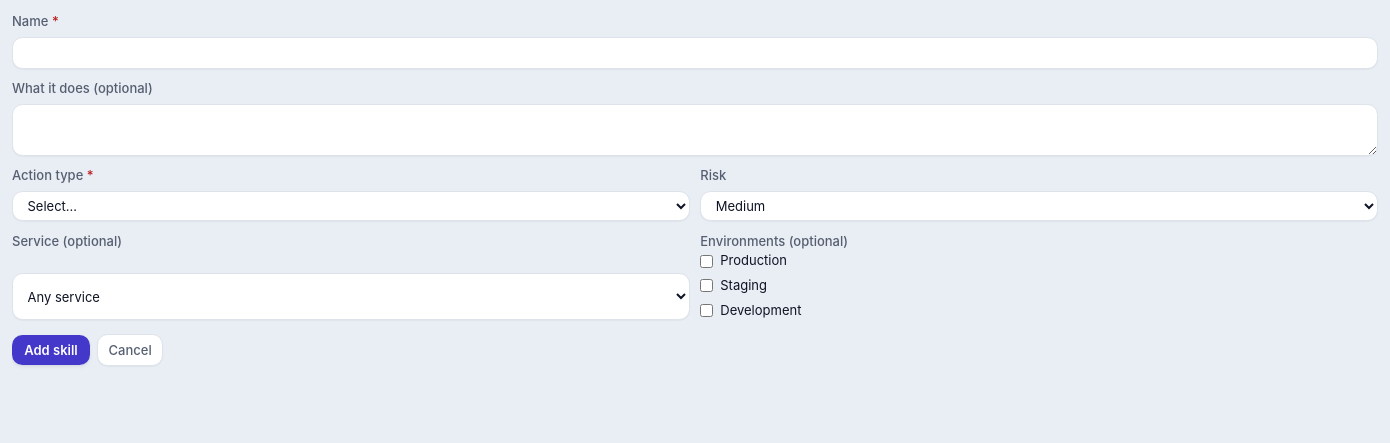
Test: SkillForm › requires a name and an action type
Click the button "Add skill": (51, 350) [12, 335, 90, 365]
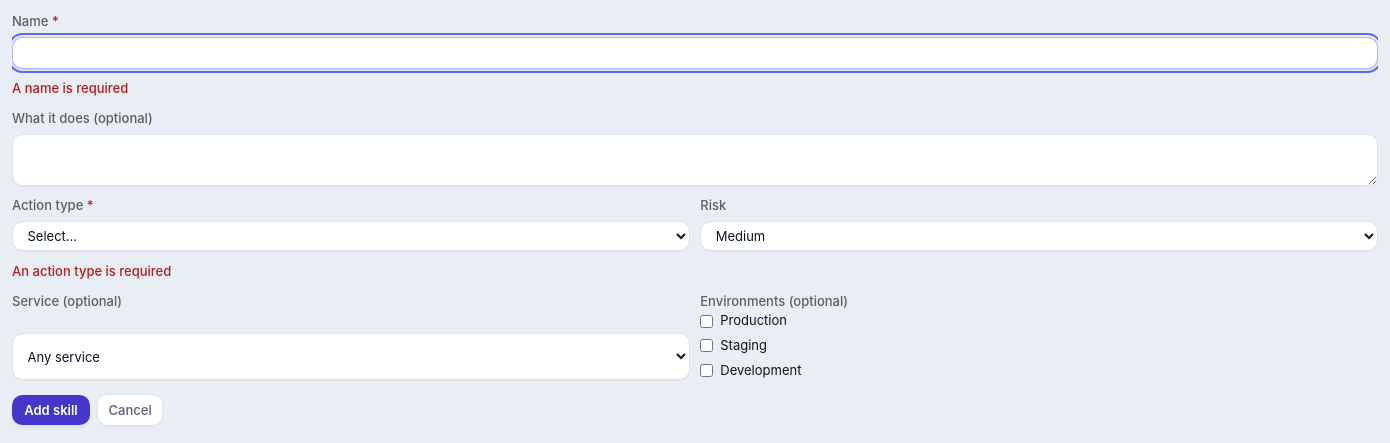
Expected: the text "A name is required" is shown, [12, 80, 128, 96]
Expected: the text "An action type is required" is shown, [12, 263, 171, 279]
